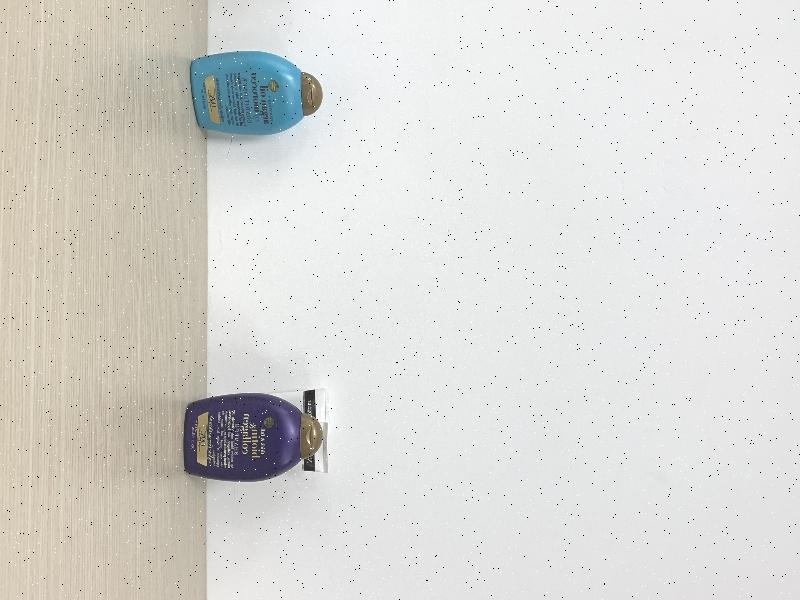ArganOilOfMorocco_Conditioner: (190, 51, 322, 135)
BiotinCollagen_Shampoo: (183, 393, 322, 482)
